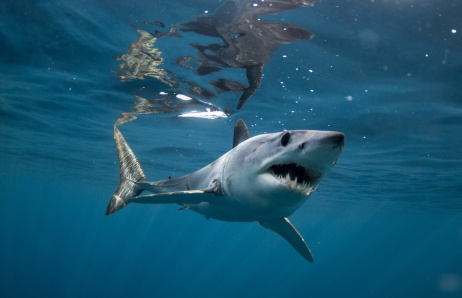Mako: (79, 113, 354, 268)
